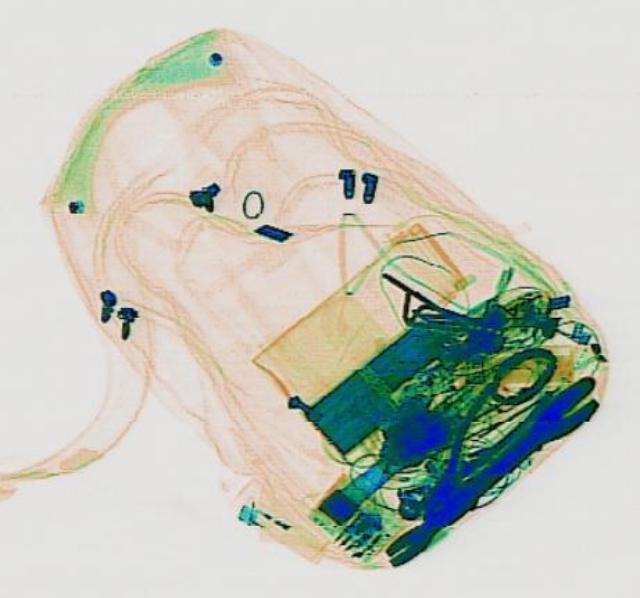Pliers: (396, 348, 580, 535)
Wrench: (376, 364, 600, 569)
